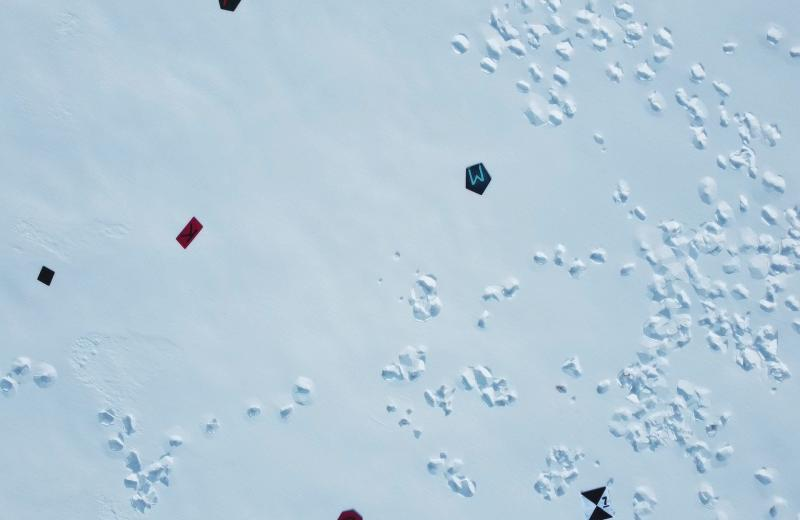Octagon: (337, 506, 363, 520)
Pentagon: (464, 163, 493, 197)
Rectangle: (174, 214, 203, 255)
Square: (37, 264, 54, 288)
